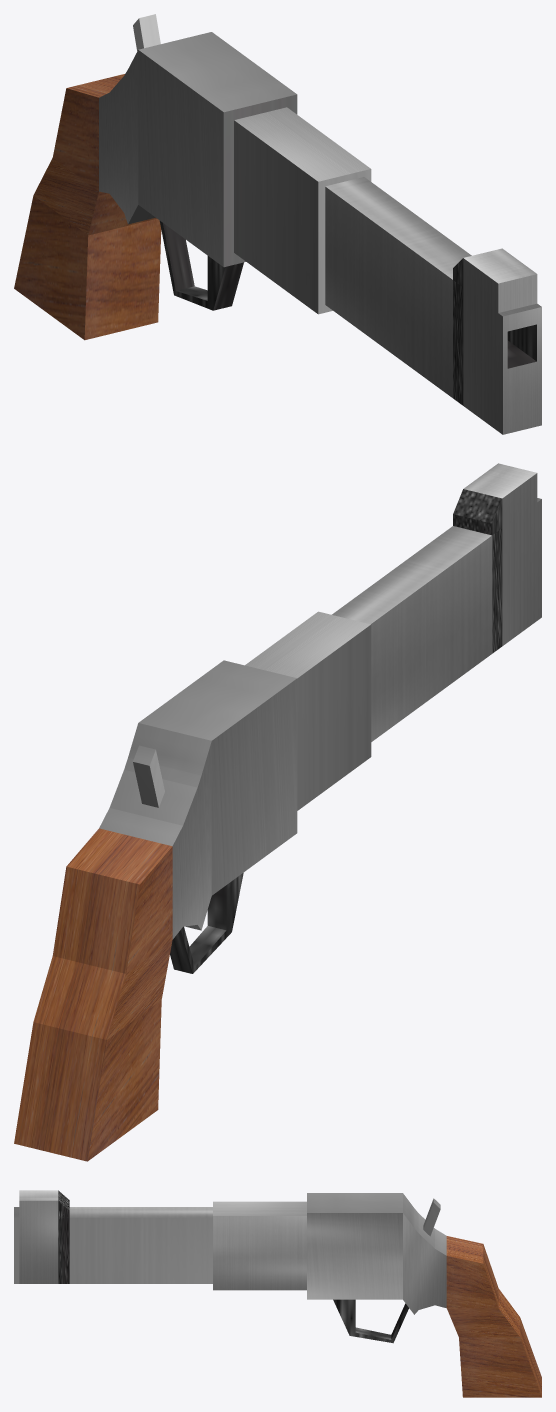
File: magnum.glb
3 renders of one model, top to bottom at view 1: azimuth 30°, elevation 25°; view 2: azimuth 150°, elevation 25°; view 3: azimuth 270°, elevation 25°, orthographic. The views are drawn at different scales.
Visible parts, largest first — view 1: Magnum; view 2: Magnum; view 3: Magnum.
Boxes of the visible parts, <box> form: Magnum: <box>14,14,541,434</box>; Magnum: <box>14,463,541,1161</box>; Magnum: <box>14,1190,541,1397</box>.
Bounding box in the file's own units: 0.1096 × 0.4882 × 1.22.
1 material, 1 textured.
